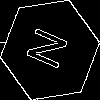N: (25, 25, 77, 76)
